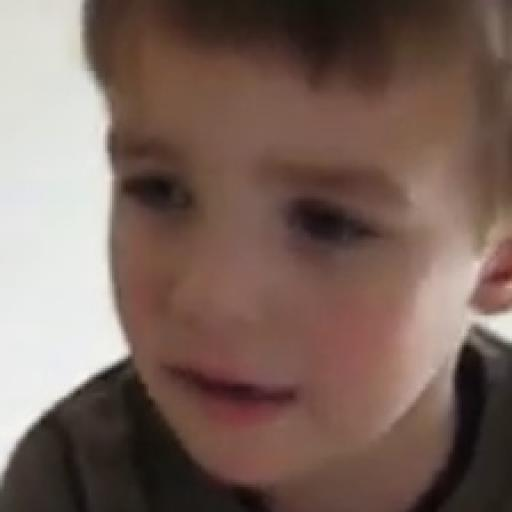Autism: (61, 34, 512, 486)
